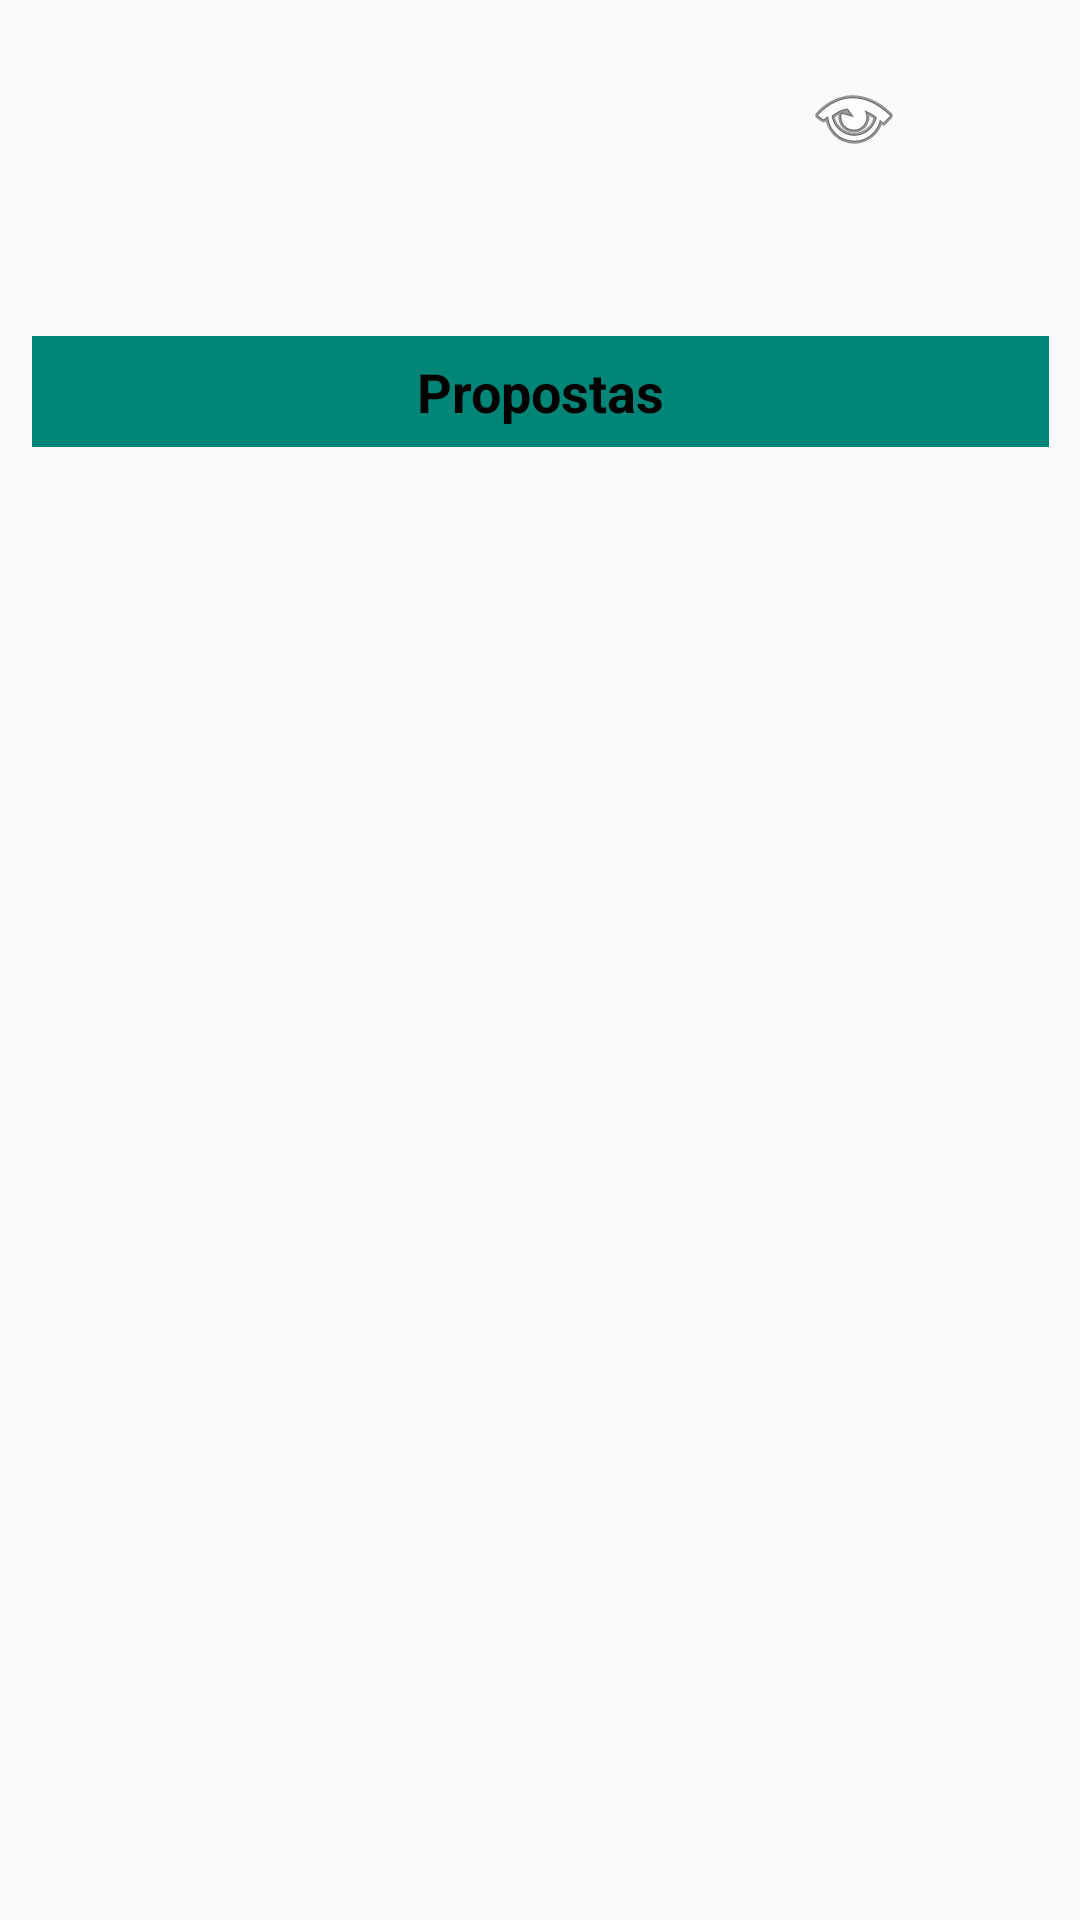

Locate icon controls on the screen. Image size 1080px x 1920px, boxes as BBox(x1, y1, x2, y2).
view: BBox(815, 95, 893, 144)
